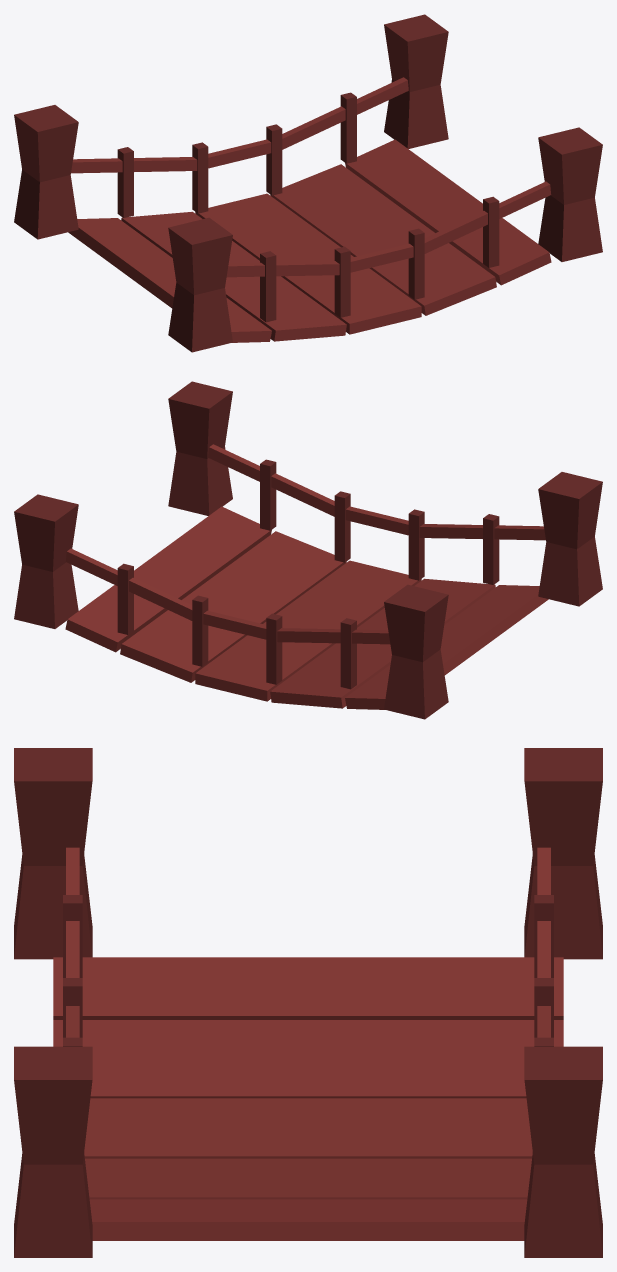
File: Bridge_2_Red.fbx
The picture shows the model from 3 angles, top to bottom: view 1: azimuth 30°, elevation 25°; view 2: azimuth 150°, elevation 25°; view 3: azimuth 270°, elevation 25°; orthographic projection. The views are drawn at different scales.
Visible parts, largest first — view 1: Bridge_2_Red_Part_2, Bridge_2_Red_Part_4, Bridge_2_Red_Part_3, Bridge_2_Red_Part_1; view 2: Bridge_2_Red_Part_2, Bridge_2_Red_Part_3, Bridge_2_Red_Part_4, Bridge_2_Red_Part_1; view 3: Bridge_2_Red_Part_1, Bridge_2_Red_Part_2, Bridge_2_Red_Part_4, Bridge_2_Red_Part_3.
Boxes of the visible parts, <box> form: Bridge_2_Red_Part_2: <box>231,139,551,325</box>; Bridge_2_Red_Part_4: <box>168,127,602,352</box>; Bridge_2_Red_Part_3: <box>14,14,448,239</box>; Bridge_2_Red_Part_1: <box>68,202,385,342</box>; Bridge_2_Red_Part_2: <box>65,506,385,692</box>; Bridge_2_Red_Part_3: <box>14,494,448,719</box>; Bridge_2_Red_Part_4: <box>168,381,602,606</box>; Bridge_2_Red_Part_1: <box>231,569,548,709</box>; Bridge_2_Red_Part_1: <box>53,957,563,1127</box>; Bridge_2_Red_Part_2: <box>84,1127,532,1240</box>; Bridge_2_Red_Part_4: <box>14,748,92,1257</box>; Bridge_2_Red_Part_3: <box>524,748,602,1257</box>.
Size of the model in its own units: 400 by 130 by 300.
